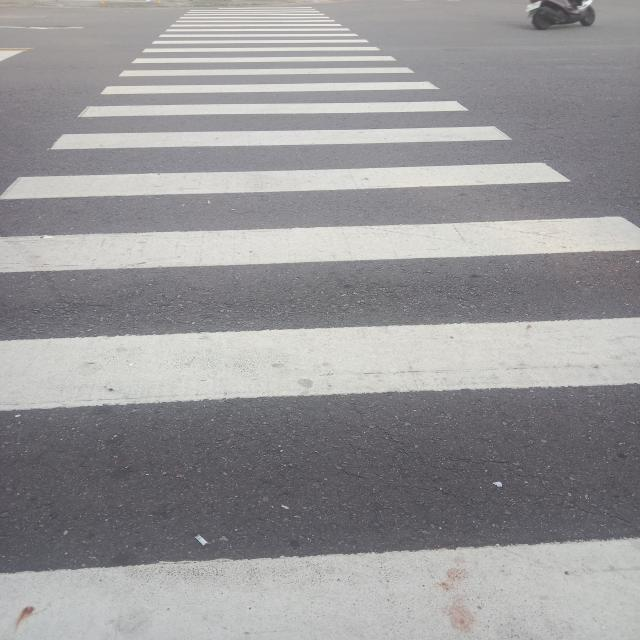zebra crossing: (0, 2, 640, 640)
